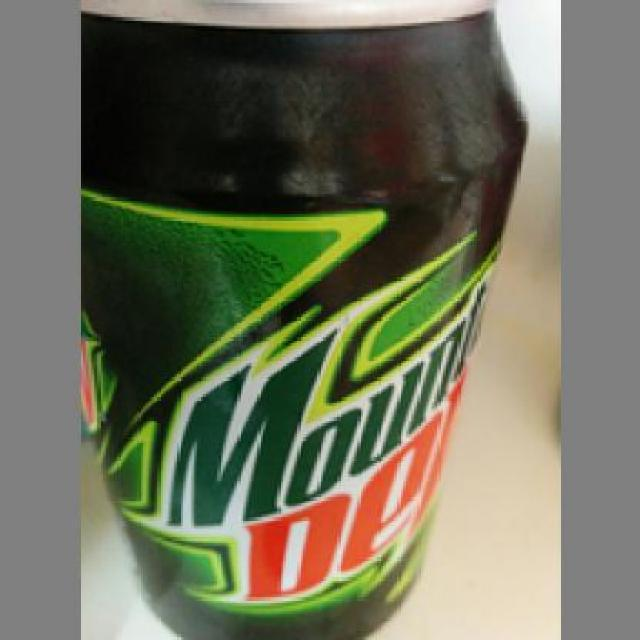Soda: (77, 0, 530, 637)
